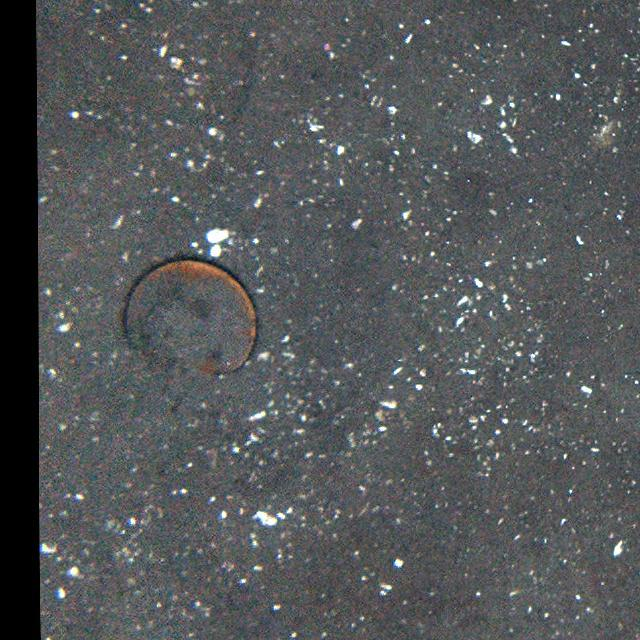scallop: (118, 253, 262, 381)
